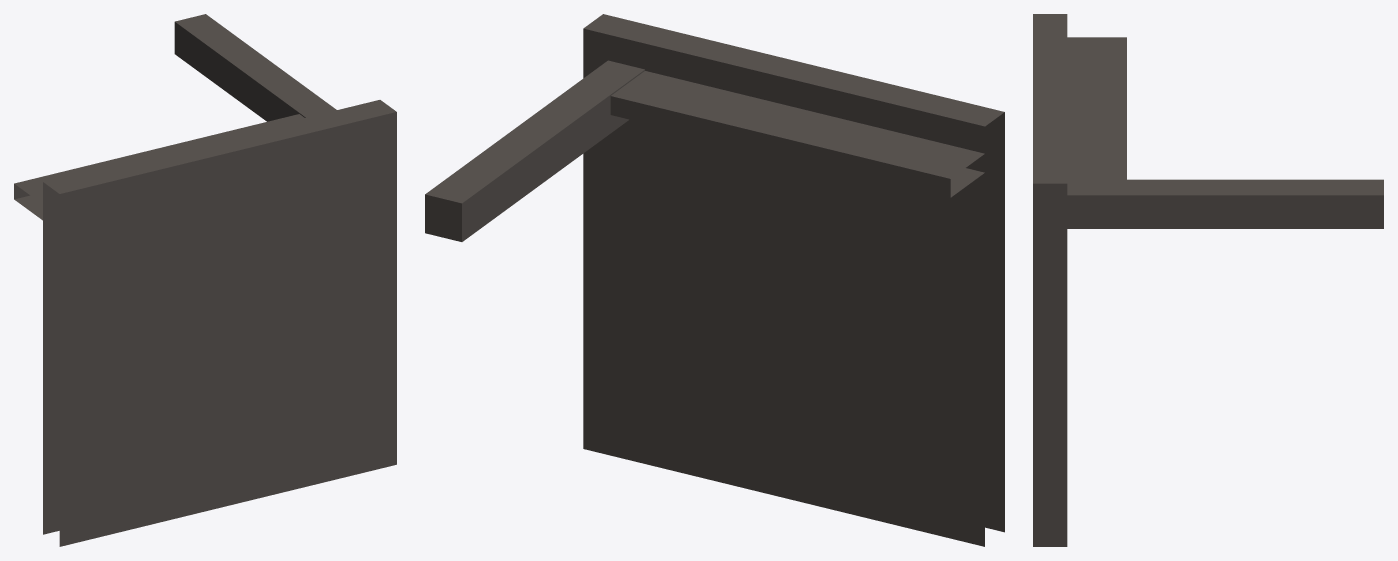
Rendered from pz_table_tables_high_02_large_dark_1_1.obj.
3 renders of one model, left to right at view 1: azimuth 30°, elevation 25°; view 2: azimuth 150°, elevation 25°; view 3: azimuth 270°, elevation 25°, orthographic. The views are drawn at different scales.
Size of the model in its own units: 0.875 by 0.875 by 0.7655.
Materials: 1 (1 with a texture image).
